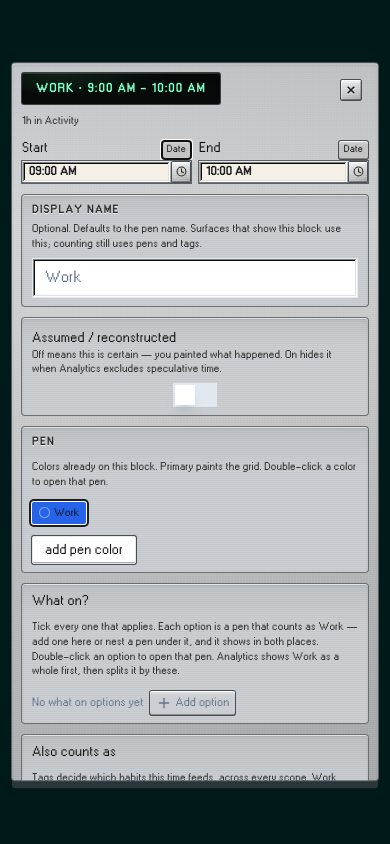
Test: EntryDialog › keeps date pickers optional and defaults them to the block's calendar day
Click the button "Date" next to "Start".
click(176, 150)  # box 162,141 -> 191,159
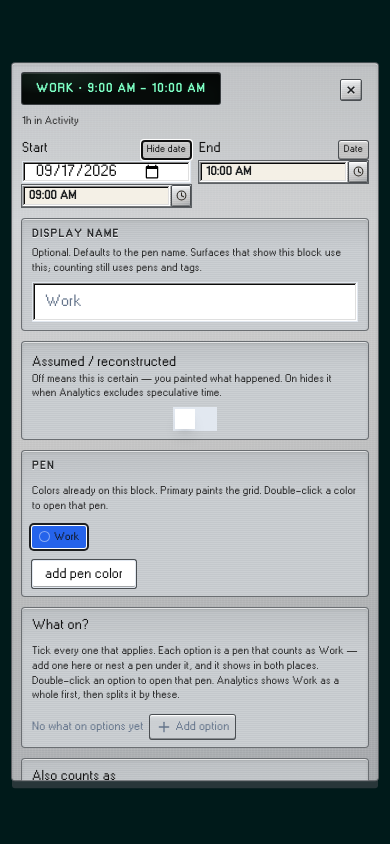
Expected: the date field named "Start date" holds "2026-09-17", 22,161 -> 191,183
